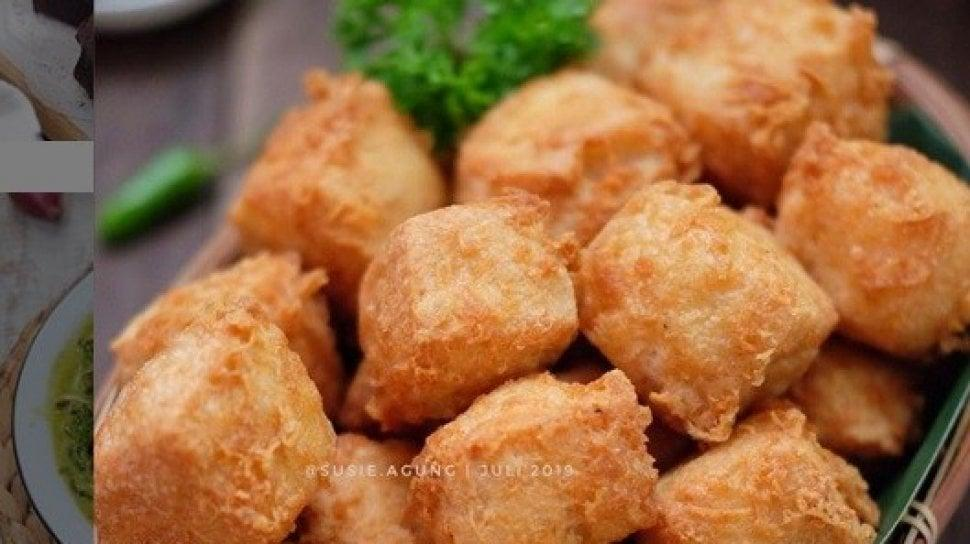kacang_legume: (674, 0, 848, 129), (129, 365, 258, 530), (643, 204, 760, 376), (441, 413, 616, 525), (389, 243, 527, 360), (821, 157, 939, 281), (505, 102, 618, 207), (279, 122, 378, 234), (684, 472, 805, 544)
